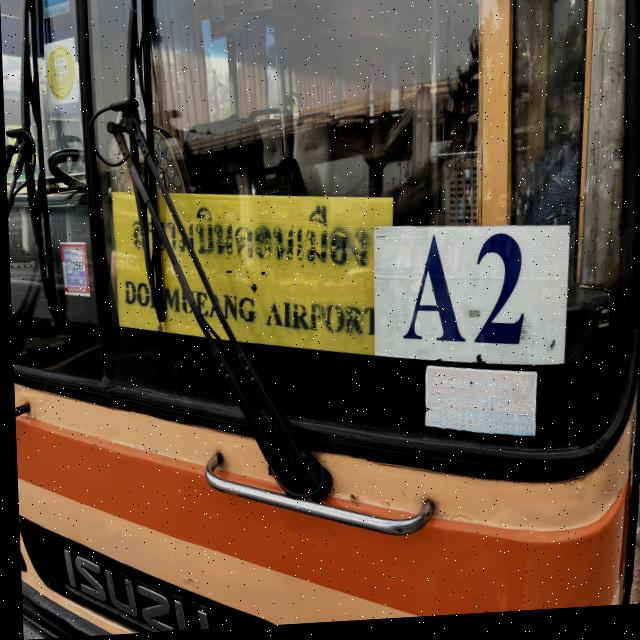BMTA-bus: (0, 0, 640, 640)
Destination-Sign-Normal-Expressway: (109, 177, 399, 380)
